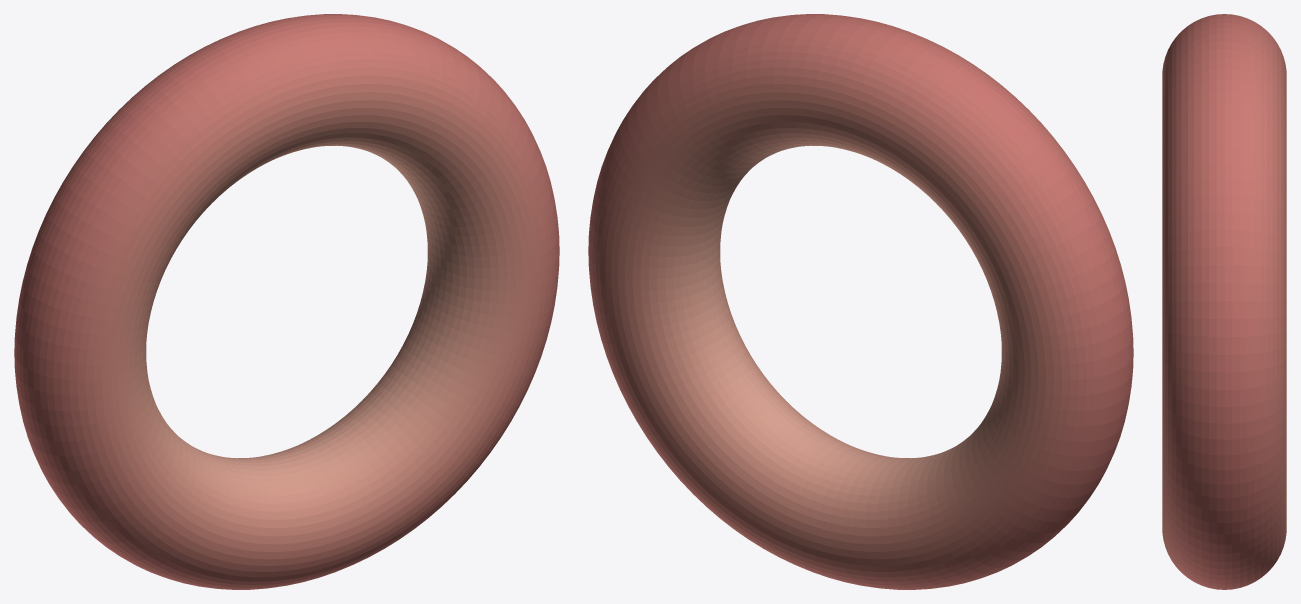
3 views of the same model, side by side, from view 1: azimuth 30°, elevation 25°; view 2: azimuth 150°, elevation 25°; view 3: azimuth 270°, elevation 25° (orthographic). The views are drawn at different scales.
Parts seen in each view (by area): view 1: world; view 2: world; view 3: world.
Boxes of the visible parts, x1,y1,x2,y2 form: world: [14, 14, 559, 589]; world: [588, 14, 1133, 589]; world: [1162, 14, 1286, 589].
Bounding box in the file's own units: 17.87 × 17.87 × 3.86.
